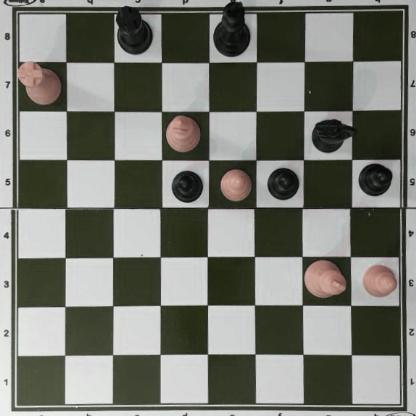black-king: (211, 1, 251, 59)
black-knight: (310, 118, 356, 153)
black-pawn: (357, 160, 392, 196), (170, 169, 204, 203), (266, 166, 299, 200)
black-rook: (113, 7, 153, 55)
white-bishop: (166, 111, 201, 153)
white-king: (303, 259, 346, 298)
white-pawn: (360, 262, 397, 298), (218, 169, 251, 200)
white-rook: (16, 62, 63, 105)
